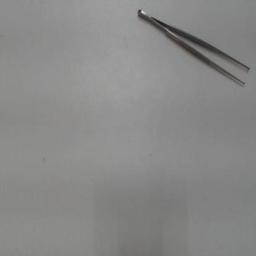Gillies Toothed Dissector: (138, 3, 252, 93)
